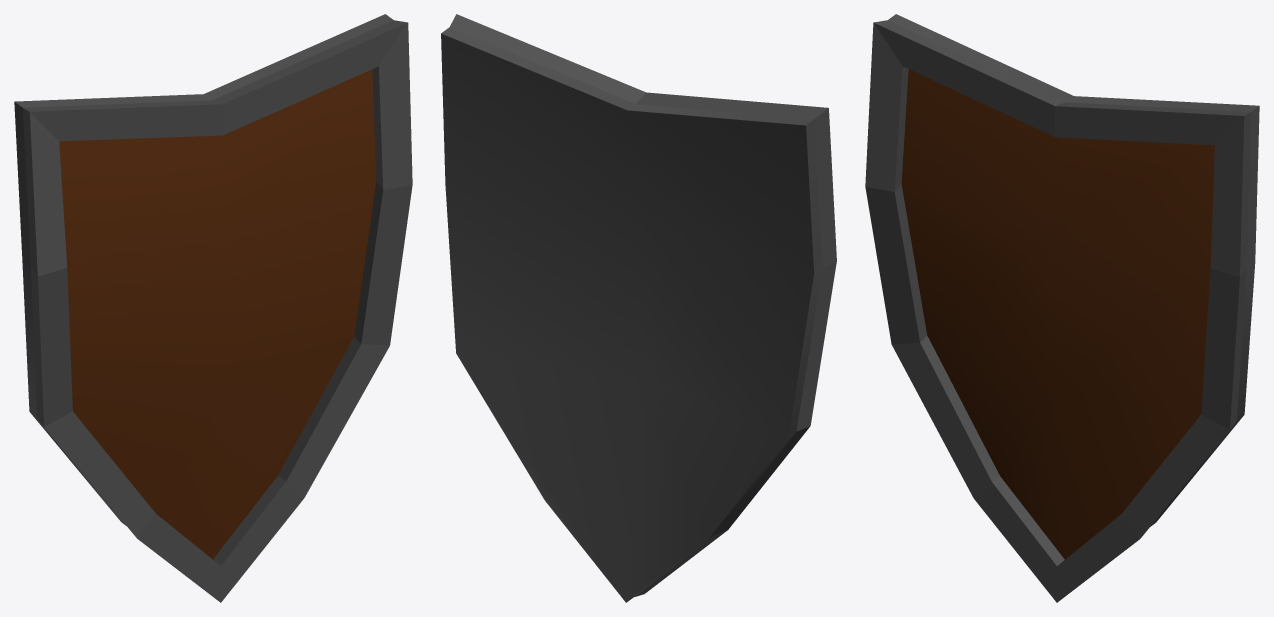
File: Shield 001.FBX
3 views of the same model, side by side, from view 1: azimuth 30°, elevation 25°; view 2: azimuth 150°, elevation 25°; view 3: azimuth 330°, elevation 25° (orthographic).
Visible parts, largest first — view 1: Shield 001; view 2: Shield 001; view 3: Shield 001.
Part boxes in pixels (x1=…): Shield 001: x1=14, y1=14, x2=412, y2=602; Shield 001: x1=441, y1=14, x2=836, y2=602; Shield 001: x1=865, y1=14, x2=1259, y2=602.
Bounding box in the file's own units: 1.02 × 1.39 × 0.1405.
